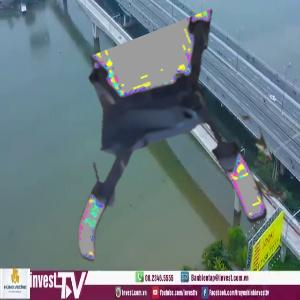drone: (38, 42, 265, 269)
